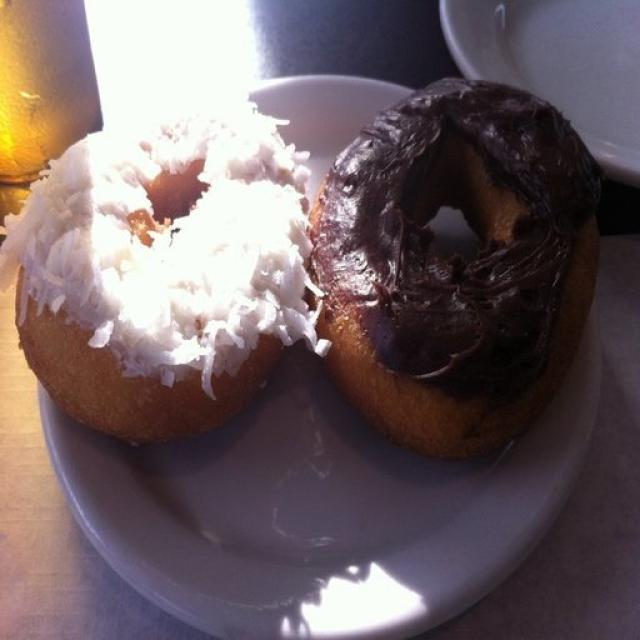Donuts: (12, 68, 557, 468)
